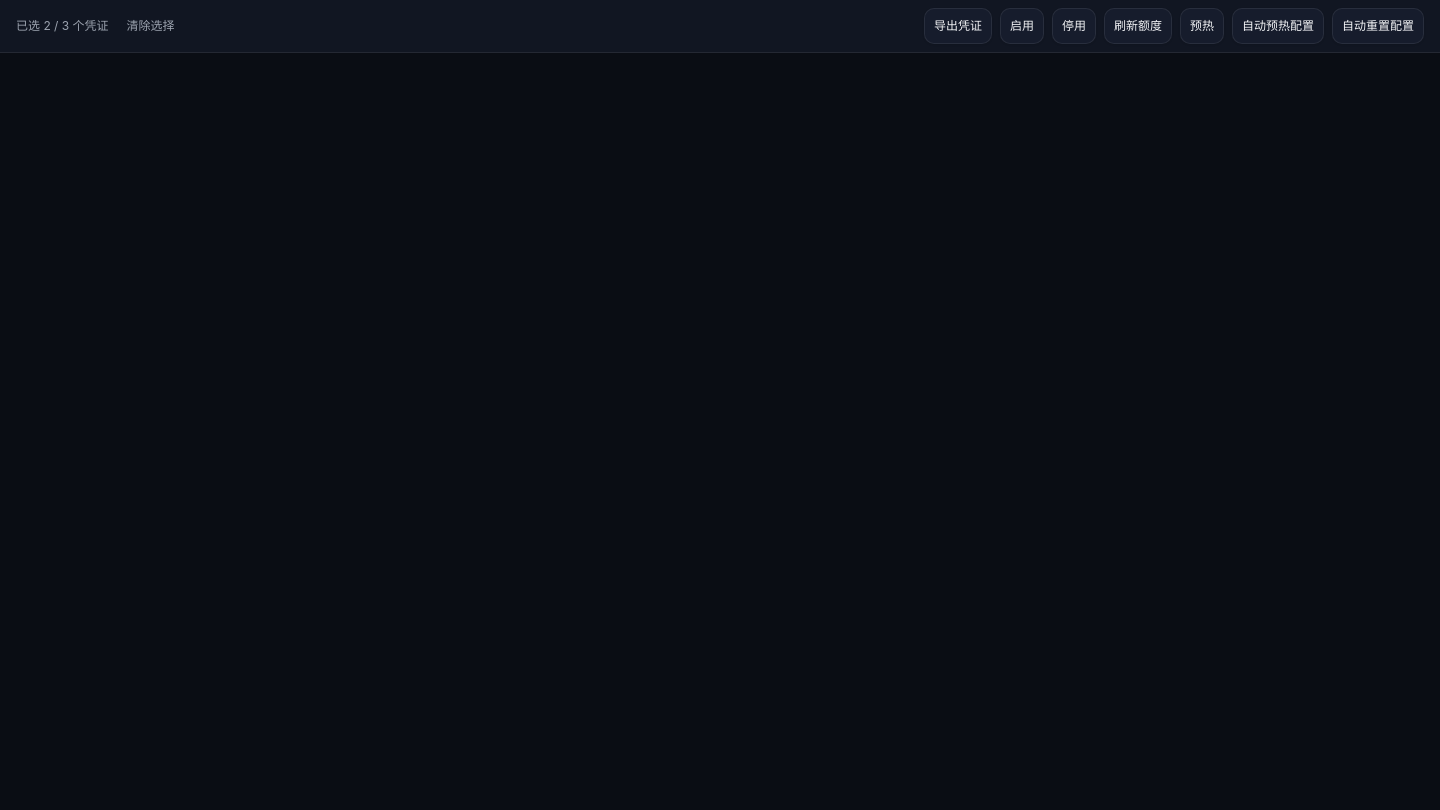
Scenario: saves edited batch configuration on exit and retains failed target drafts
Click the button "自动预热配置". click: x=1278, y=26
box: [1232,8,1324,44]
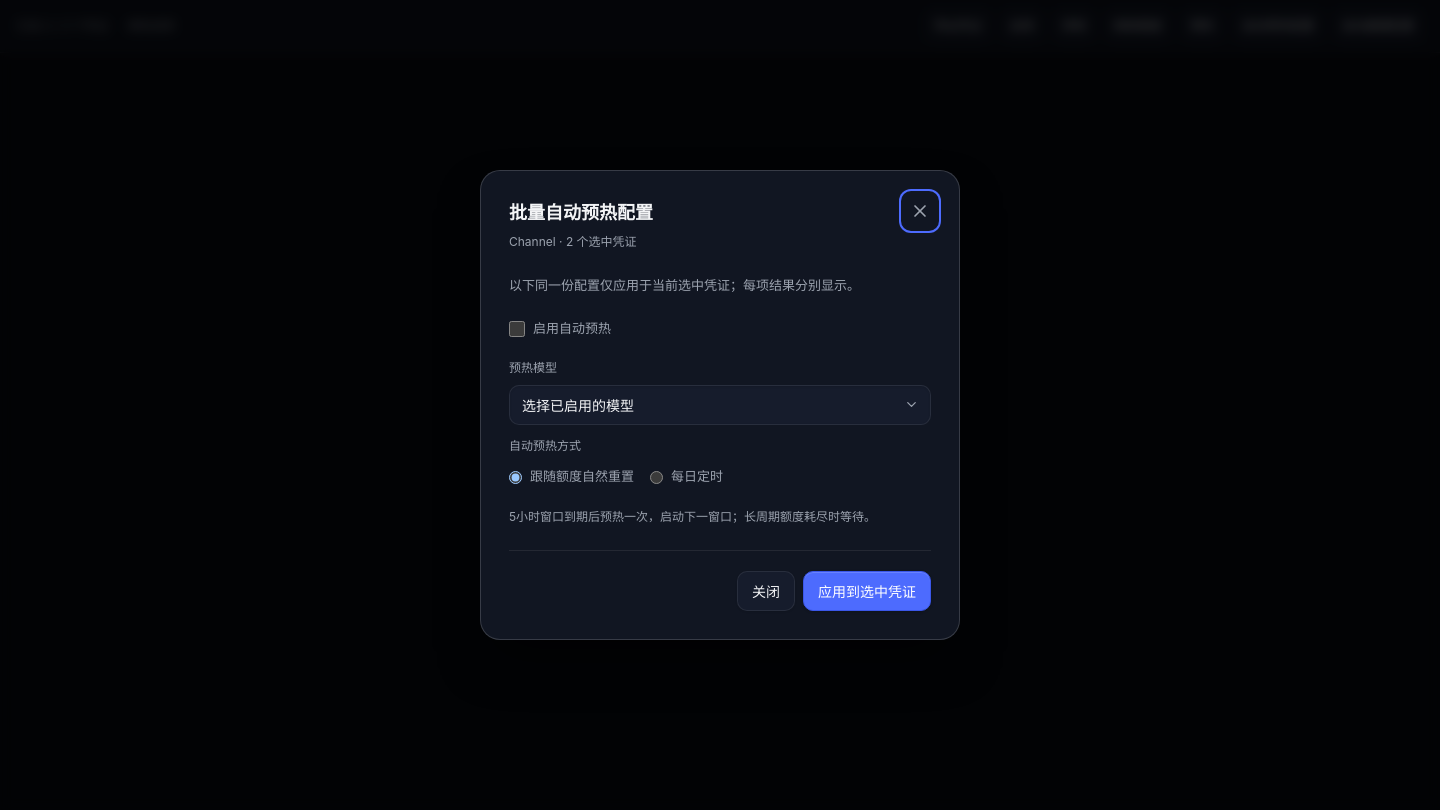
Select "model-a" in the dropdown labelled "预热模型". click: x=720, y=405
box: [509,385,931,425]
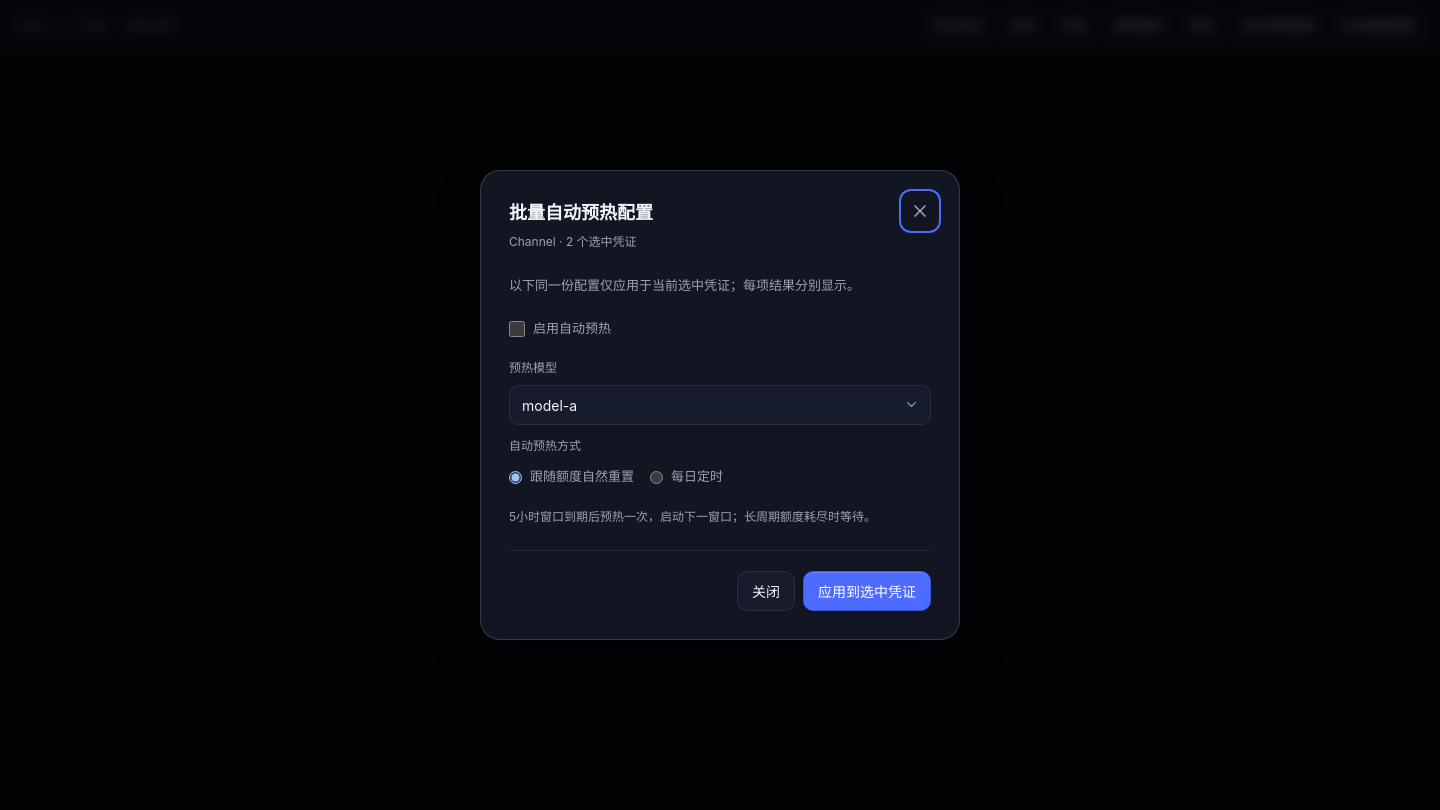
Click the button "关闭". click: x=766, y=591
box: [737,571,795,611]
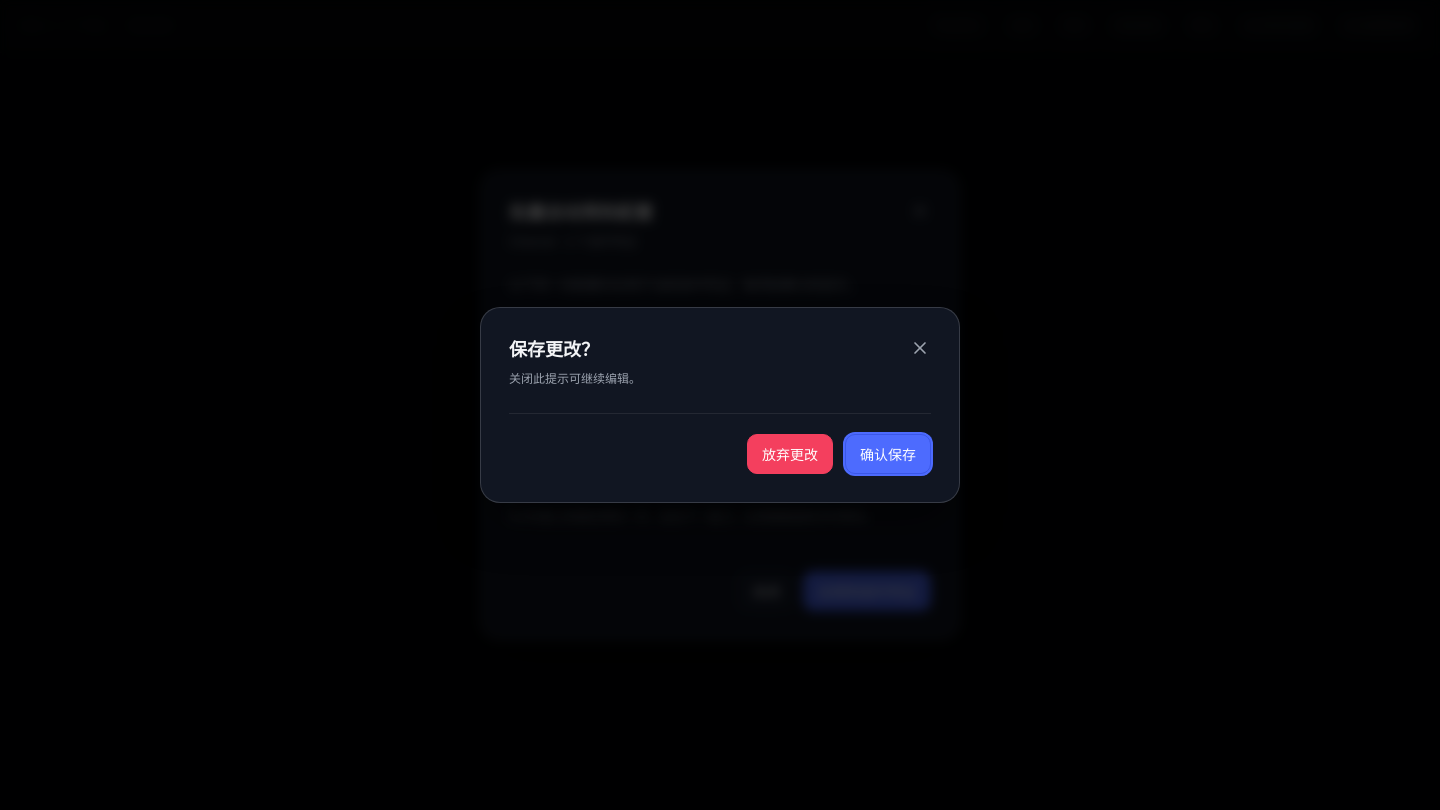
Click the button "确认保存". click: x=888, y=454
box: [845,434,931,474]
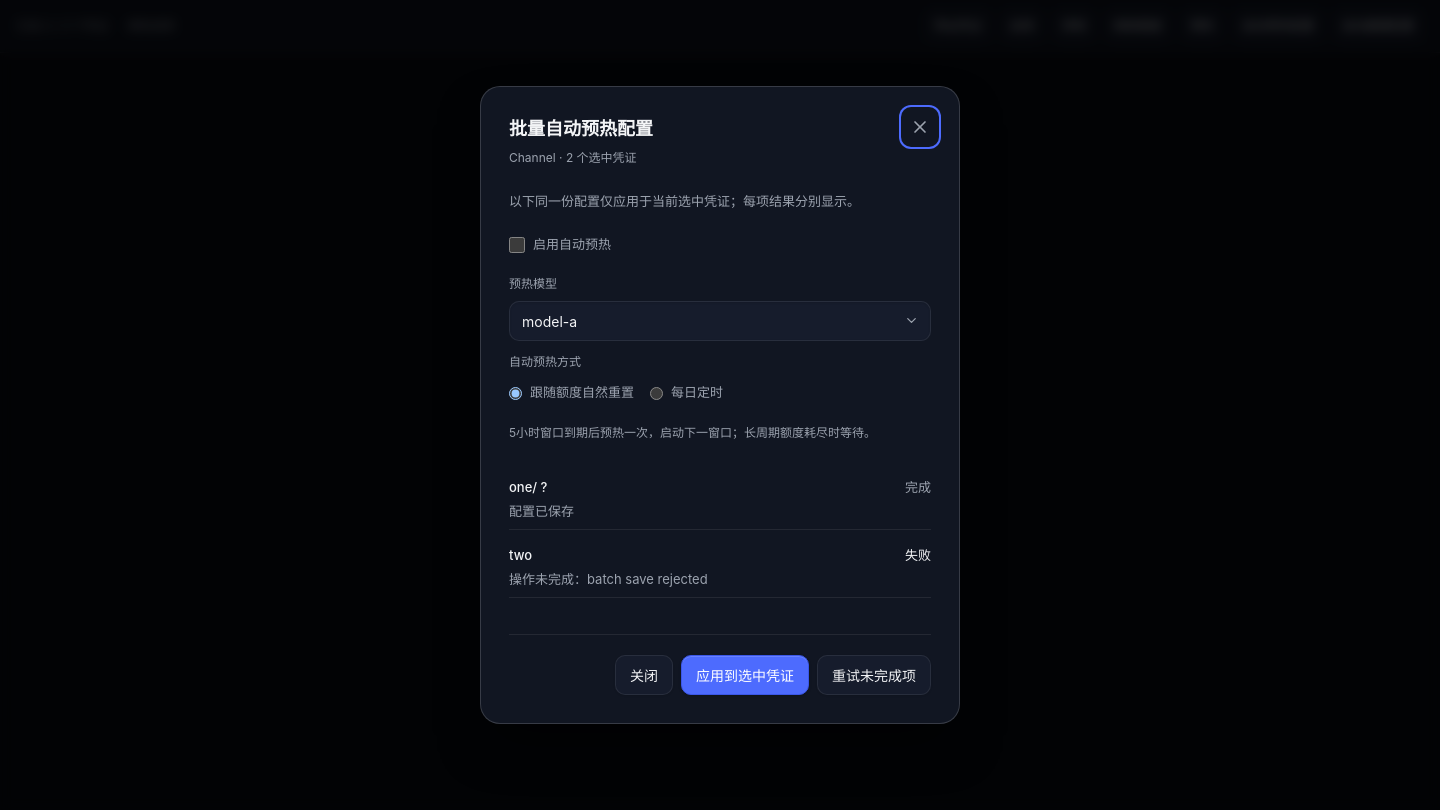
Expected: the text "操作未完成：batch save rejected" is shown, [509,571,708,587]
Click the button "关闭". click: x=644, y=675
box: [615,655,673,695]
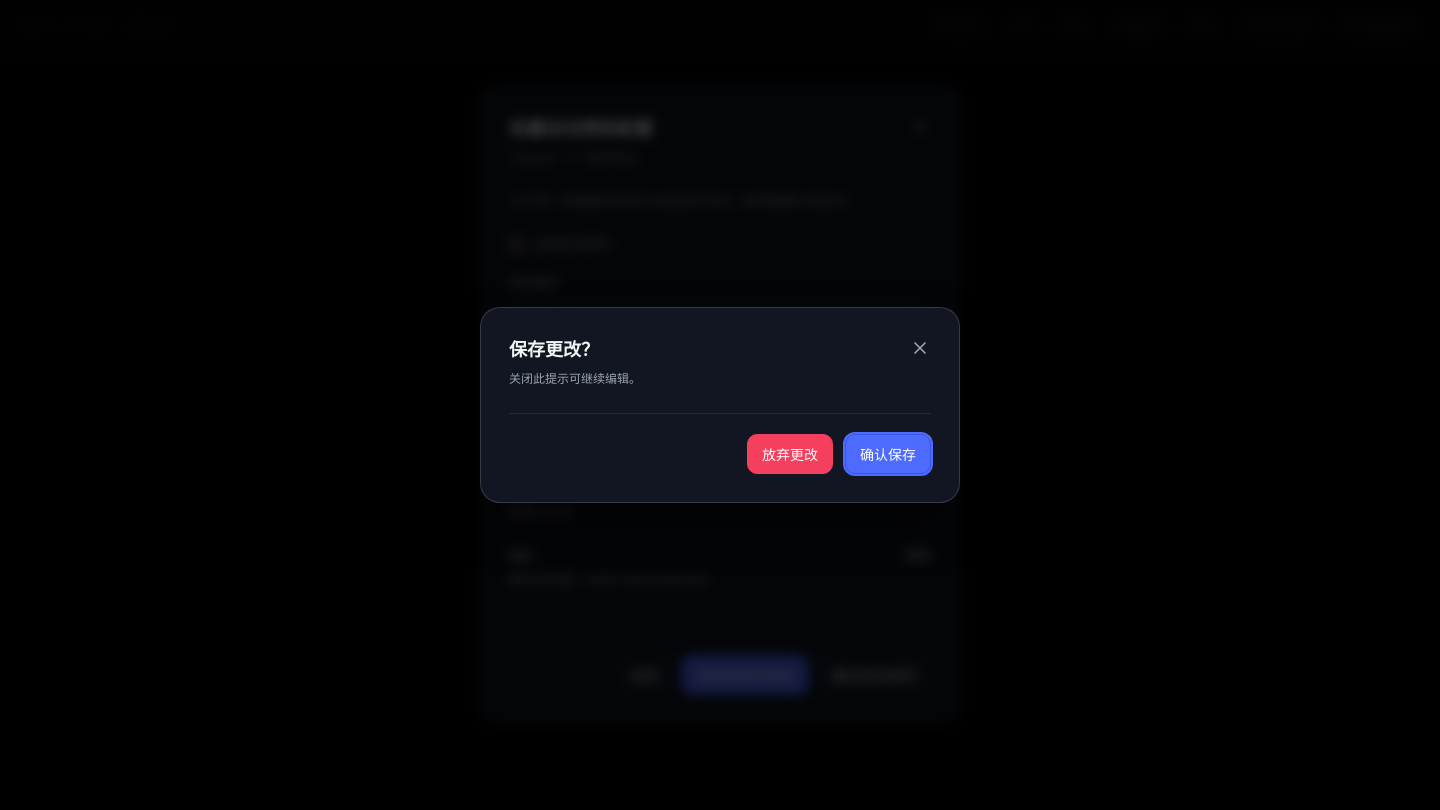
Click the button "确认保存". click: x=888, y=454
box: [845,434,931,474]
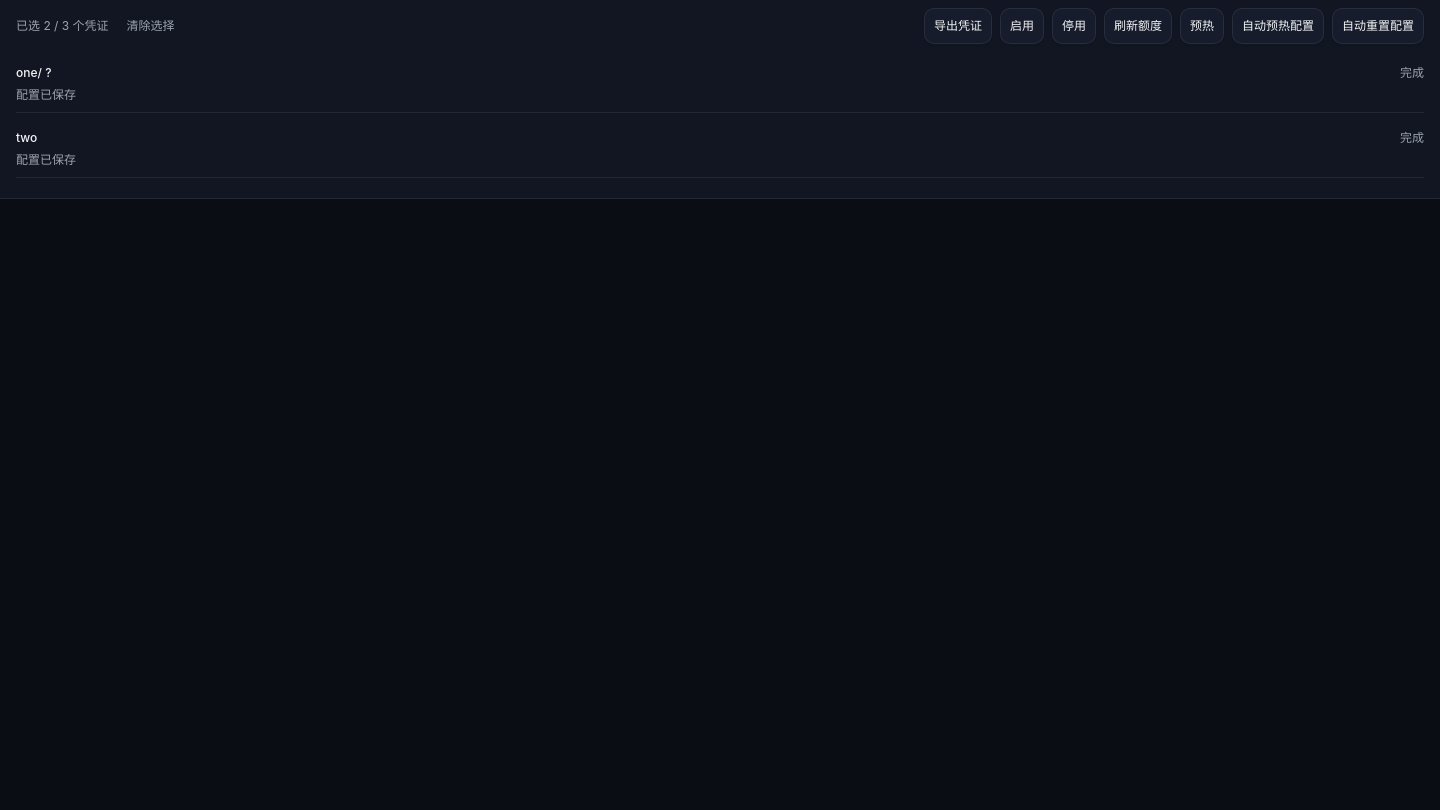
Expected: the dialog is gone
